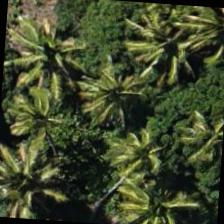Kelapa_Sawit: (88, 104, 184, 200), (118, 0, 214, 94), (1, 0, 89, 90), (108, 156, 204, 223), (158, 84, 223, 179), (0, 132, 65, 221)
